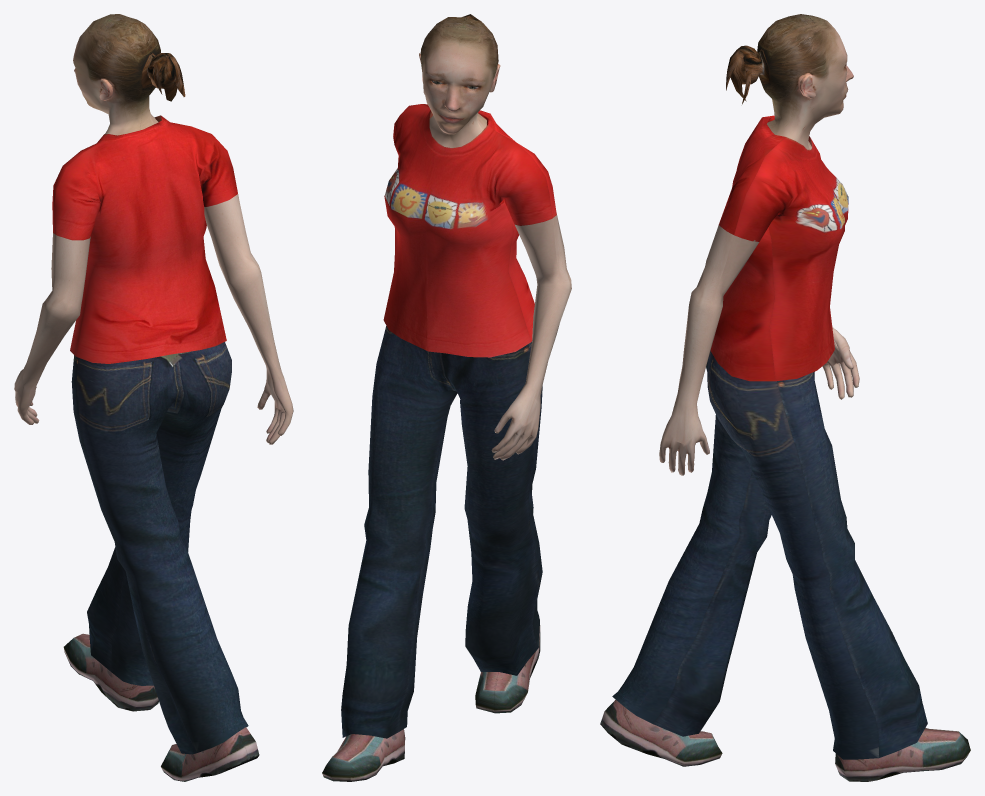
Rendered from Чел13.fbx.
3 views of the same model, side by side, from view 1: azimuth 30°, elevation 25°; view 2: azimuth 150°, elevation 25°; view 3: azimuth 270°, elevation 25° (orthographic). The views are drawn at different scales.
Parts seen in each view (by area): view 1: Wom; view 2: Wom; view 3: Wom.
Part boxes in pixels (x1,y1,x2,y2): Wom: [14, 14, 293, 781]; Wom: [322, 14, 571, 781]; Wom: [600, 14, 970, 781].
Size of the model in its own units: 498 by 1686 by 775.
